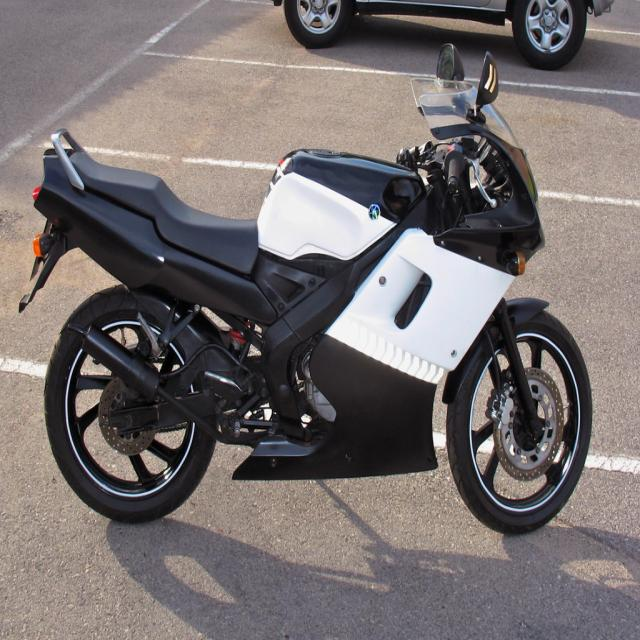Motorbikes: (21, 46, 598, 540)
